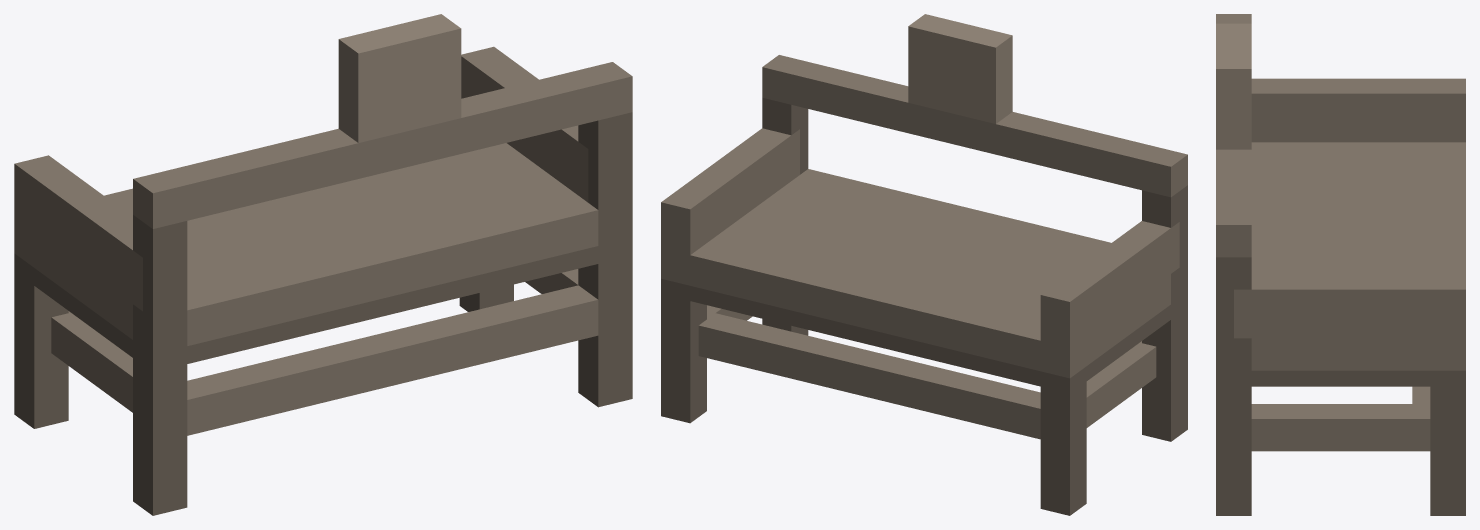
The model's file is trono_roto_01.glb.
3 renders of one model, left to right at view 1: azimuth 30°, elevation 25°; view 2: azimuth 150°, elevation 25°; view 3: azimuth 270°, elevation 25°, orthographic. The views are drawn at different scales.
Visible parts, largest first — view 1: trono_roto; view 2: trono_roto; view 3: trono_roto.
Boxes of the visible parts, box(x1,y1,x2,y2) form: trono_roto: box(14, 14, 632, 515); trono_roto: box(661, 14, 1187, 515); trono_roto: box(1216, 14, 1465, 515).
Bounding box in the file's own units: 2 × 1.64 × 1.
